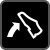ACCELERATOR_R: (1, 1, 49, 49)
